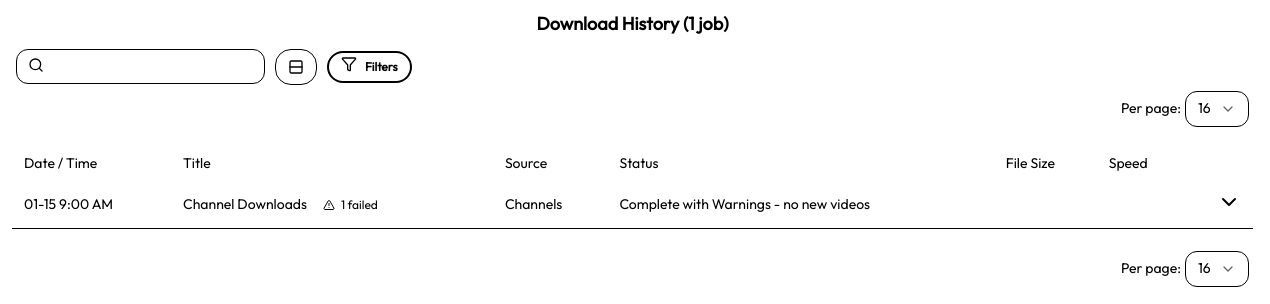
Test case: DownloadHistory › Failed download indicators › shows the diagnosis title in the chip tooltip
The image size is (1270, 304).
Hover over the button "1 failed" at (351, 205), box [315,193,388,217]
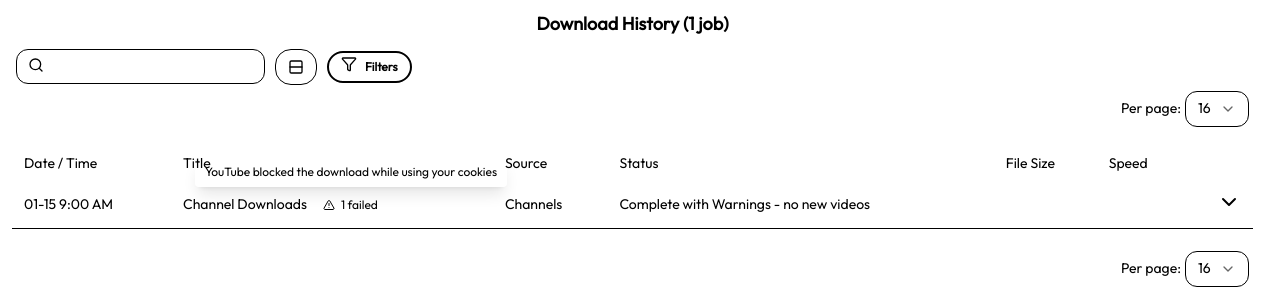
Result: the tooltip reads "YouTube blocked the download while using your cookies" at [205,164,497,179]
